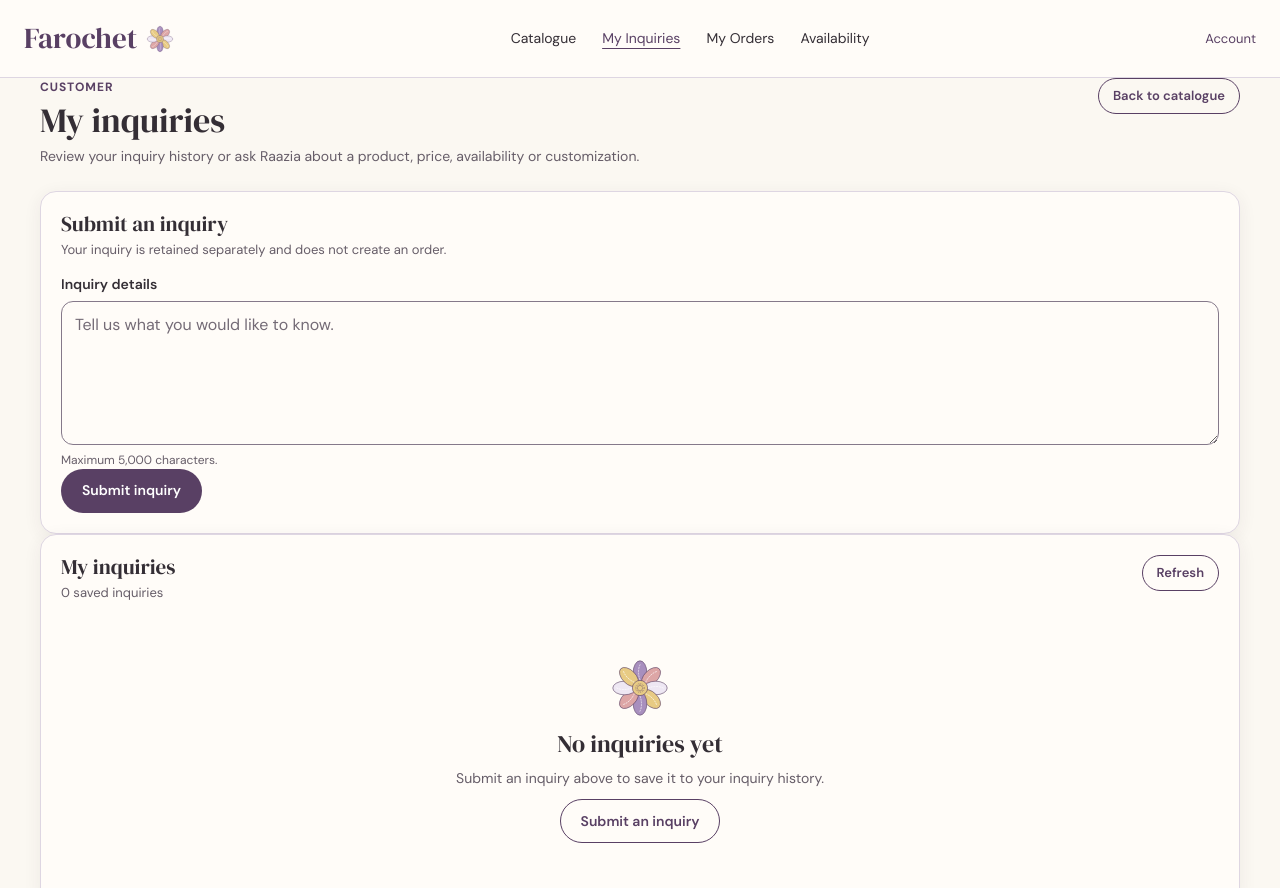
Test: CustomerInquiryPage › shows a backend submission failure
This screenshot has width=1280, height=888.
Check: the heading "No inquiries yet" is shown, box [557, 730, 723, 758]
Type "Please advise." into the text box labelled "Inquiry details" at (640, 373), box [61, 301, 1219, 445]
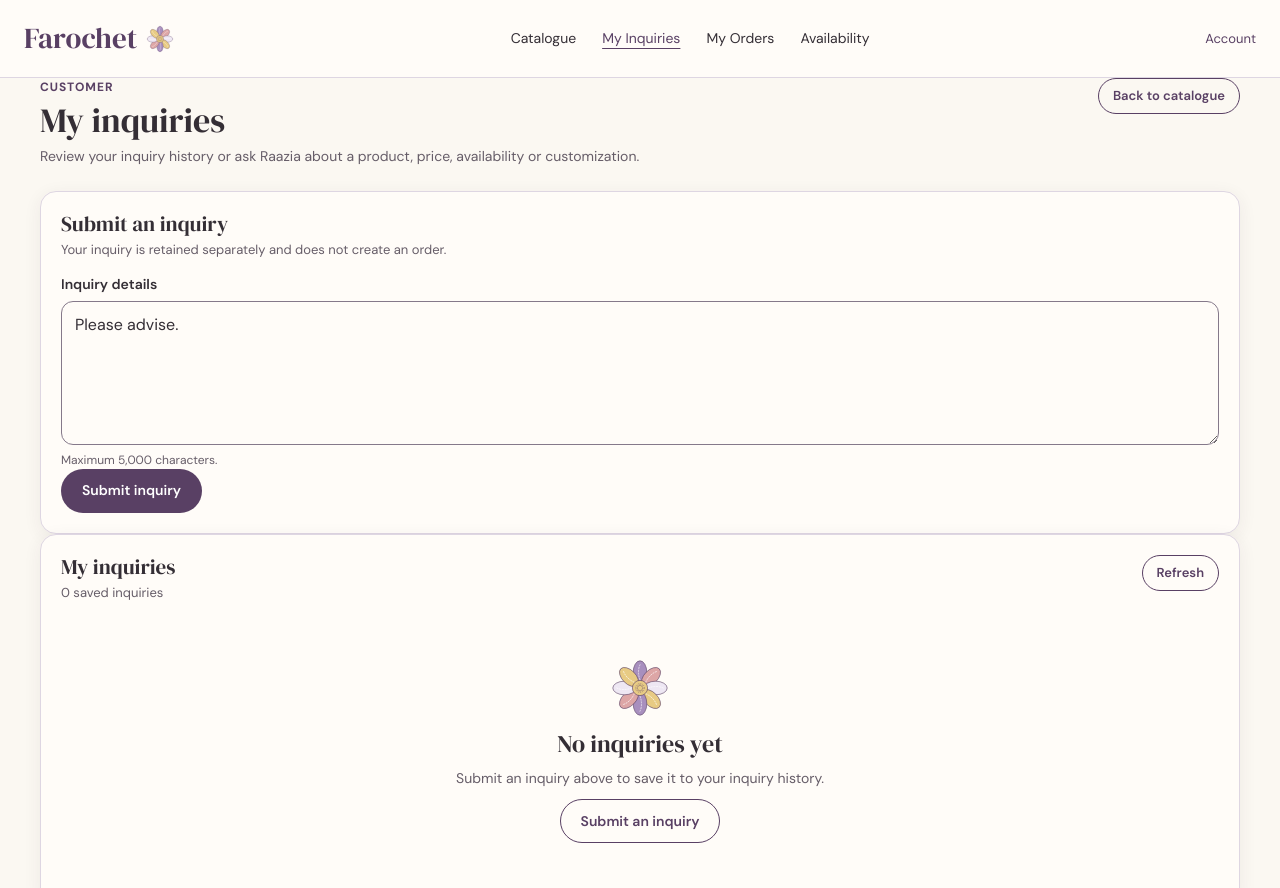
Click the button "Submit inquiry" at (132, 491), box [61, 469, 202, 513]
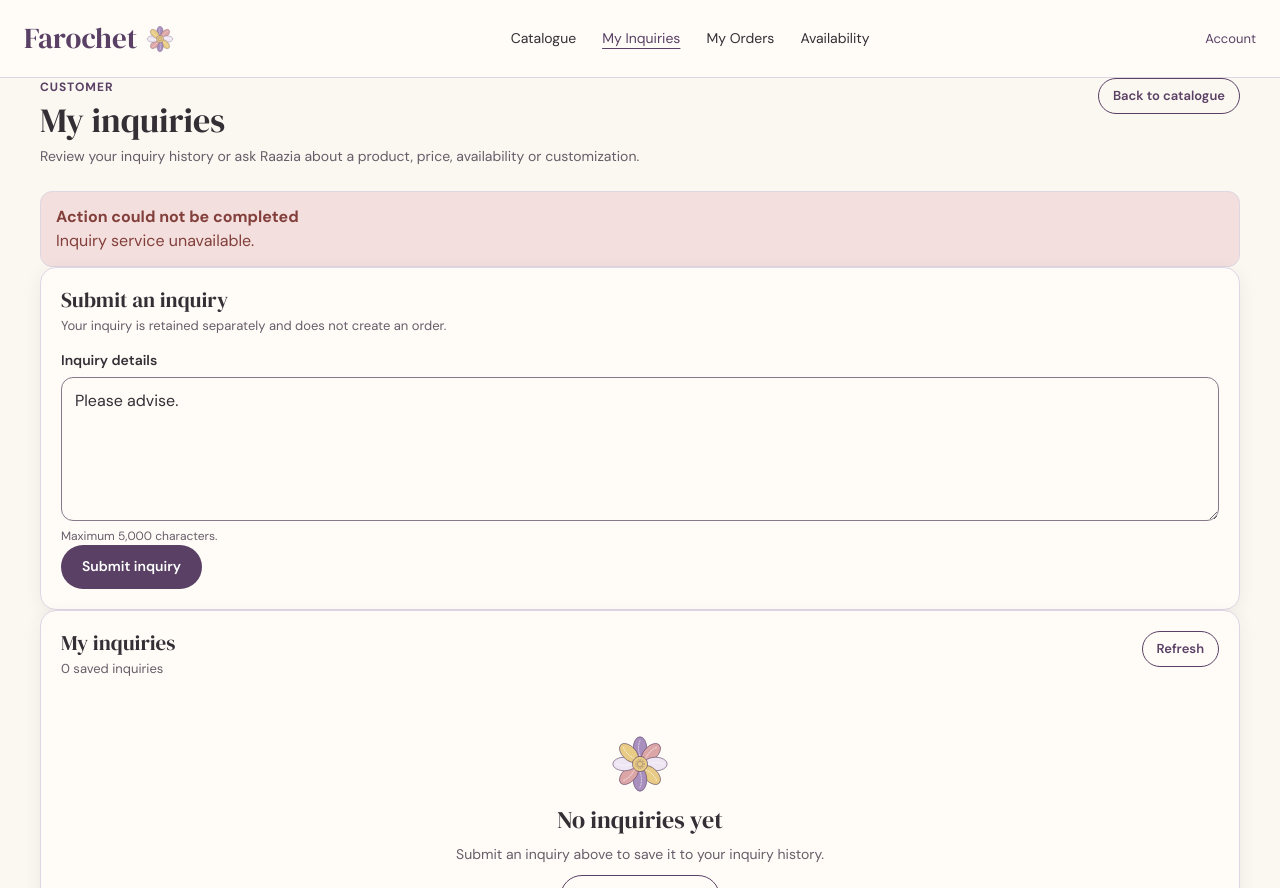
Check: the text "Inquiry service unavailable." is shown, box [56, 230, 254, 251]
